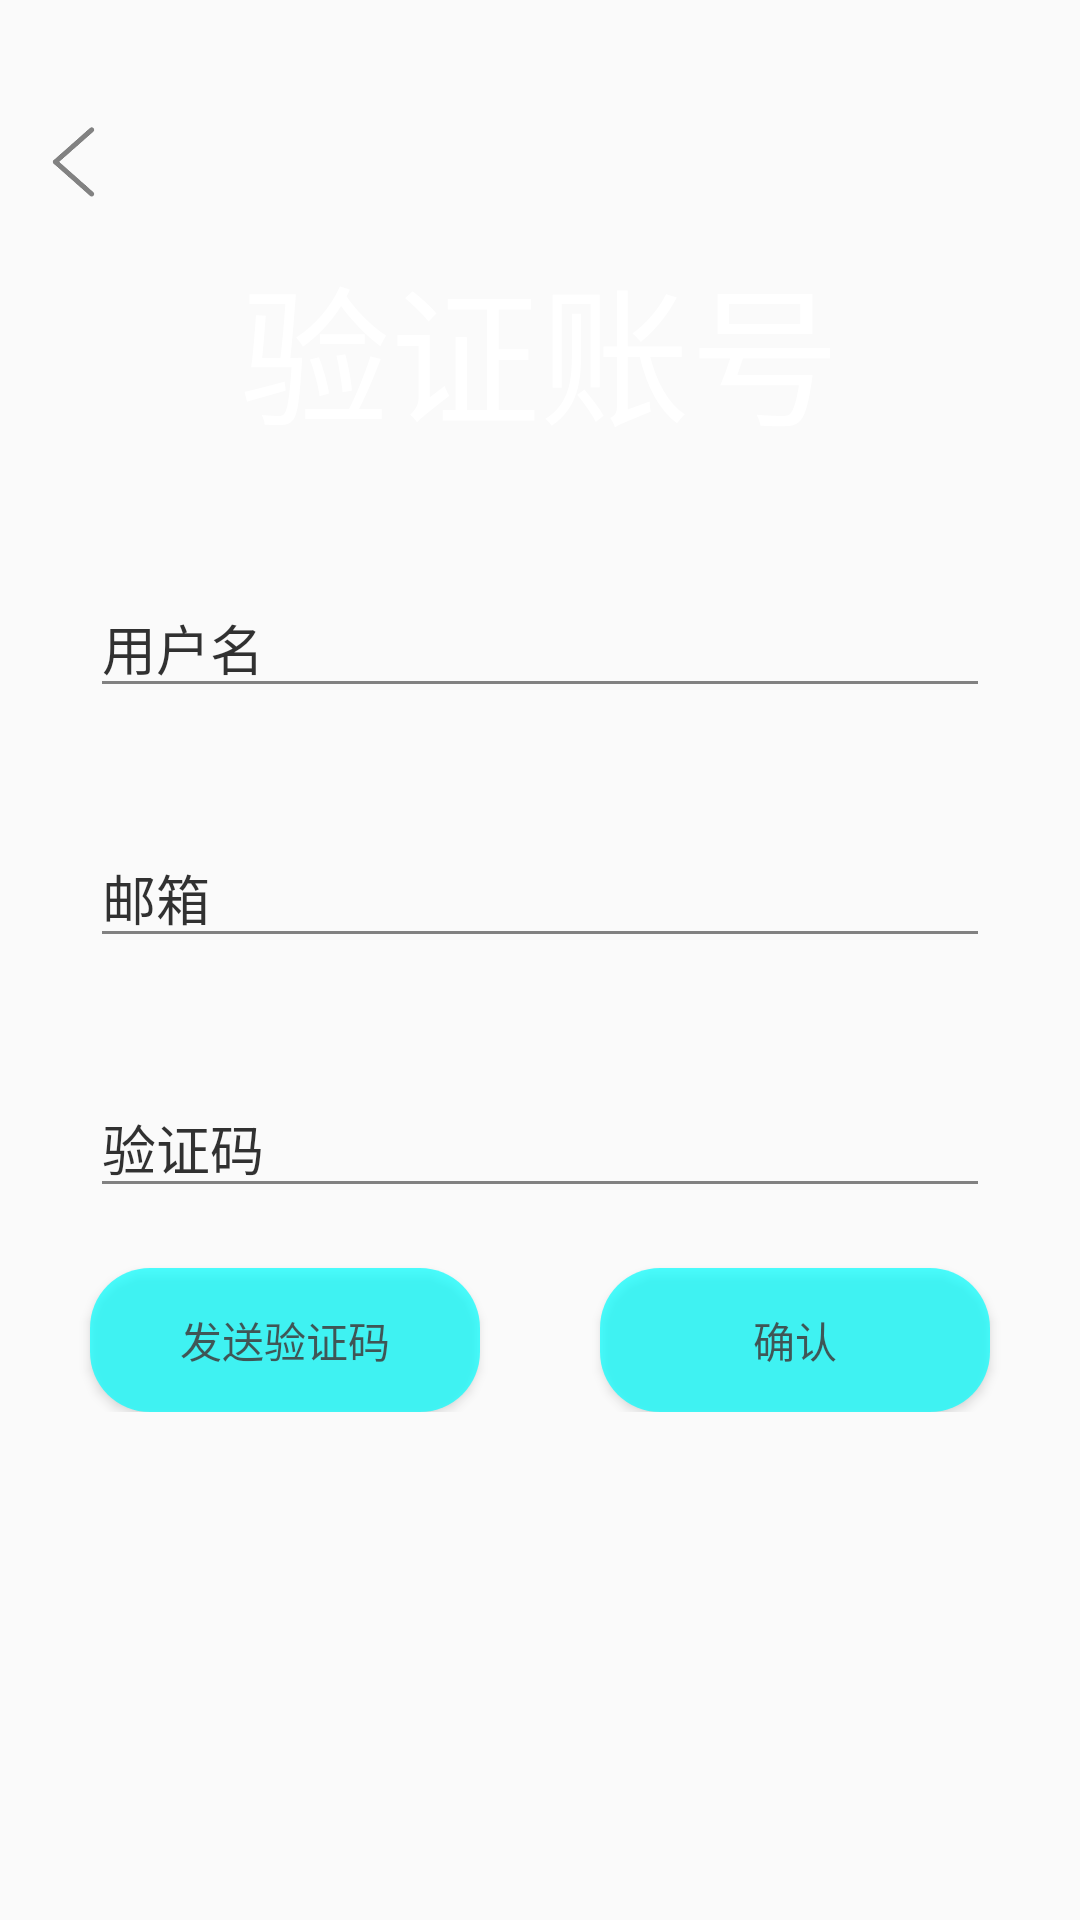

Where to tap for icons on this 1080 x 1920 app screen, as point (x, y):
back: point (73, 162)
